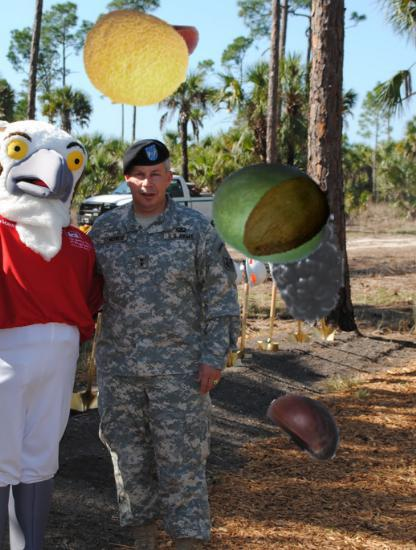Cantaloupe: (80, 6, 190, 116)
Chestnut: (267, 382, 350, 465), (127, 8, 201, 82)
Mango: (209, 150, 335, 276)
Mulberry: (237, 209, 357, 329)
Papaya: (235, 167, 337, 269)
